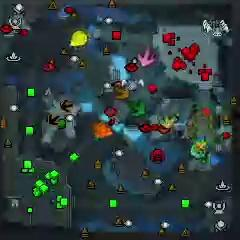p2: (190, 144, 208, 159)
p4: (68, 30, 89, 48)
p5: (93, 120, 112, 139)
x1: (137, 48, 154, 68)
x2: (159, 112, 175, 127)
x4: (128, 99, 147, 118)
x5: (113, 85, 131, 101)
x5Clone: (60, 100, 74, 114), (48, 113, 60, 126)
